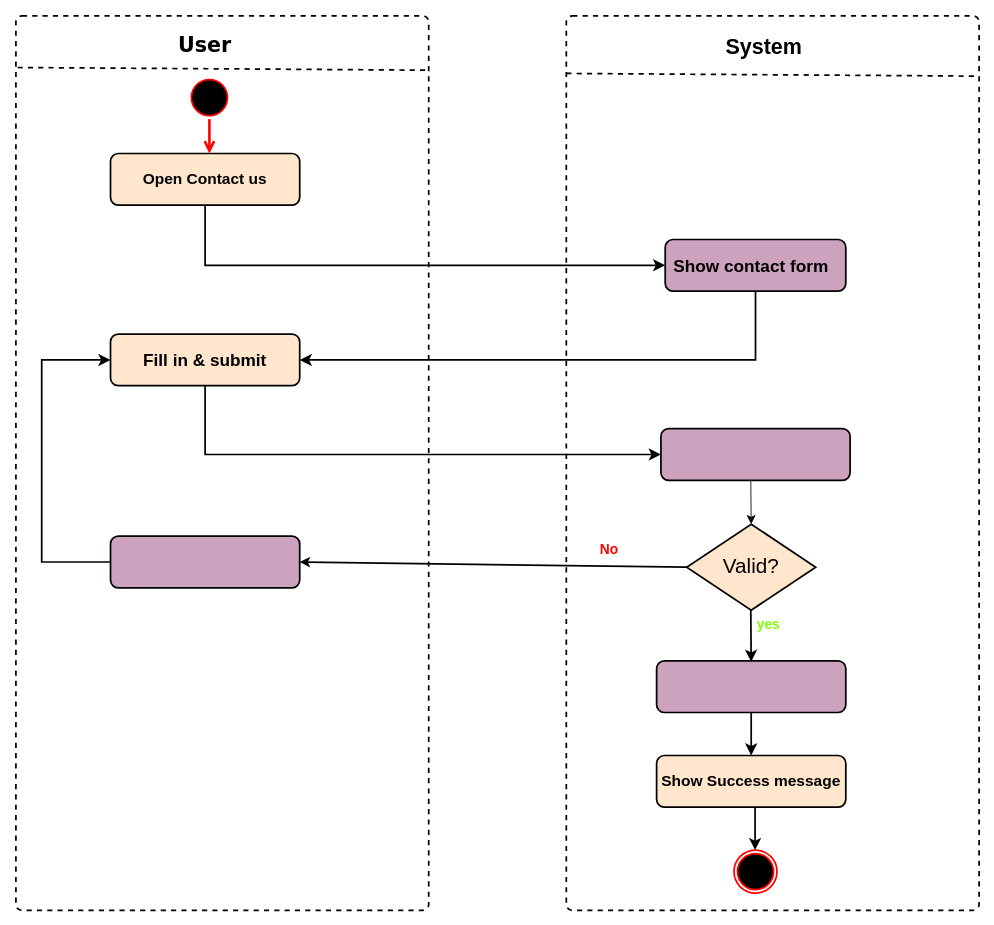
This 994x925 diagram has some shape labels left out. The centre of each missing label's shape, as x and y in pixels:
Save & notify admin: the point at 750,686
Validate input: the point at 755,454
View errors: the point at 204,561
